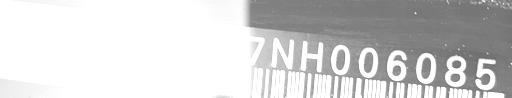letter: (40, 13, 72, 46), (442, 52, 468, 87), (474, 55, 498, 92), (270, 35, 296, 69), (356, 45, 380, 79), (186, 27, 210, 61), (214, 30, 238, 64), (300, 39, 324, 73), (384, 48, 408, 81), (244, 32, 266, 68), (414, 49, 436, 84), (134, 22, 156, 56), (104, 20, 126, 53), (329, 42, 351, 74), (160, 27, 182, 59), (12, 10, 32, 43), (78, 19, 98, 48)
